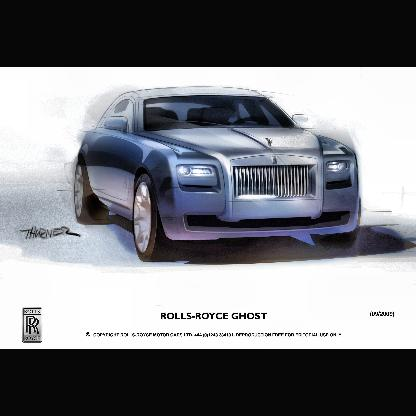Rolls-Royce Ghost Sedan 2012: (72, 84, 364, 263)
